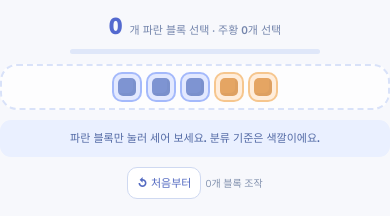
학생이 조작하면 실제 수학 모형의 값과 그림이 변한다 › 분류 학습에서는 파란색 블록만 따로 세어 준다
The image size is (390, 216).
Step 1. Click the button named "1번째 블록 세기" → [127, 87], box [112, 72, 142, 102]
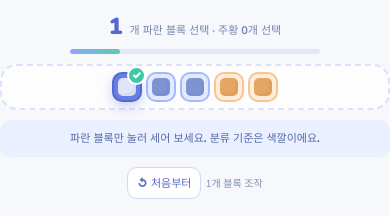
Step 2. Click the button named "4번째 블록 세기" → [229, 87], box [214, 72, 244, 102]
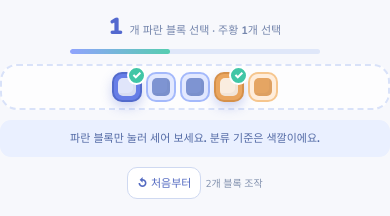
Now the text "개 파란 블록 선택 · 주황 1개 선택" is shown, box [130, 24, 281, 38]
